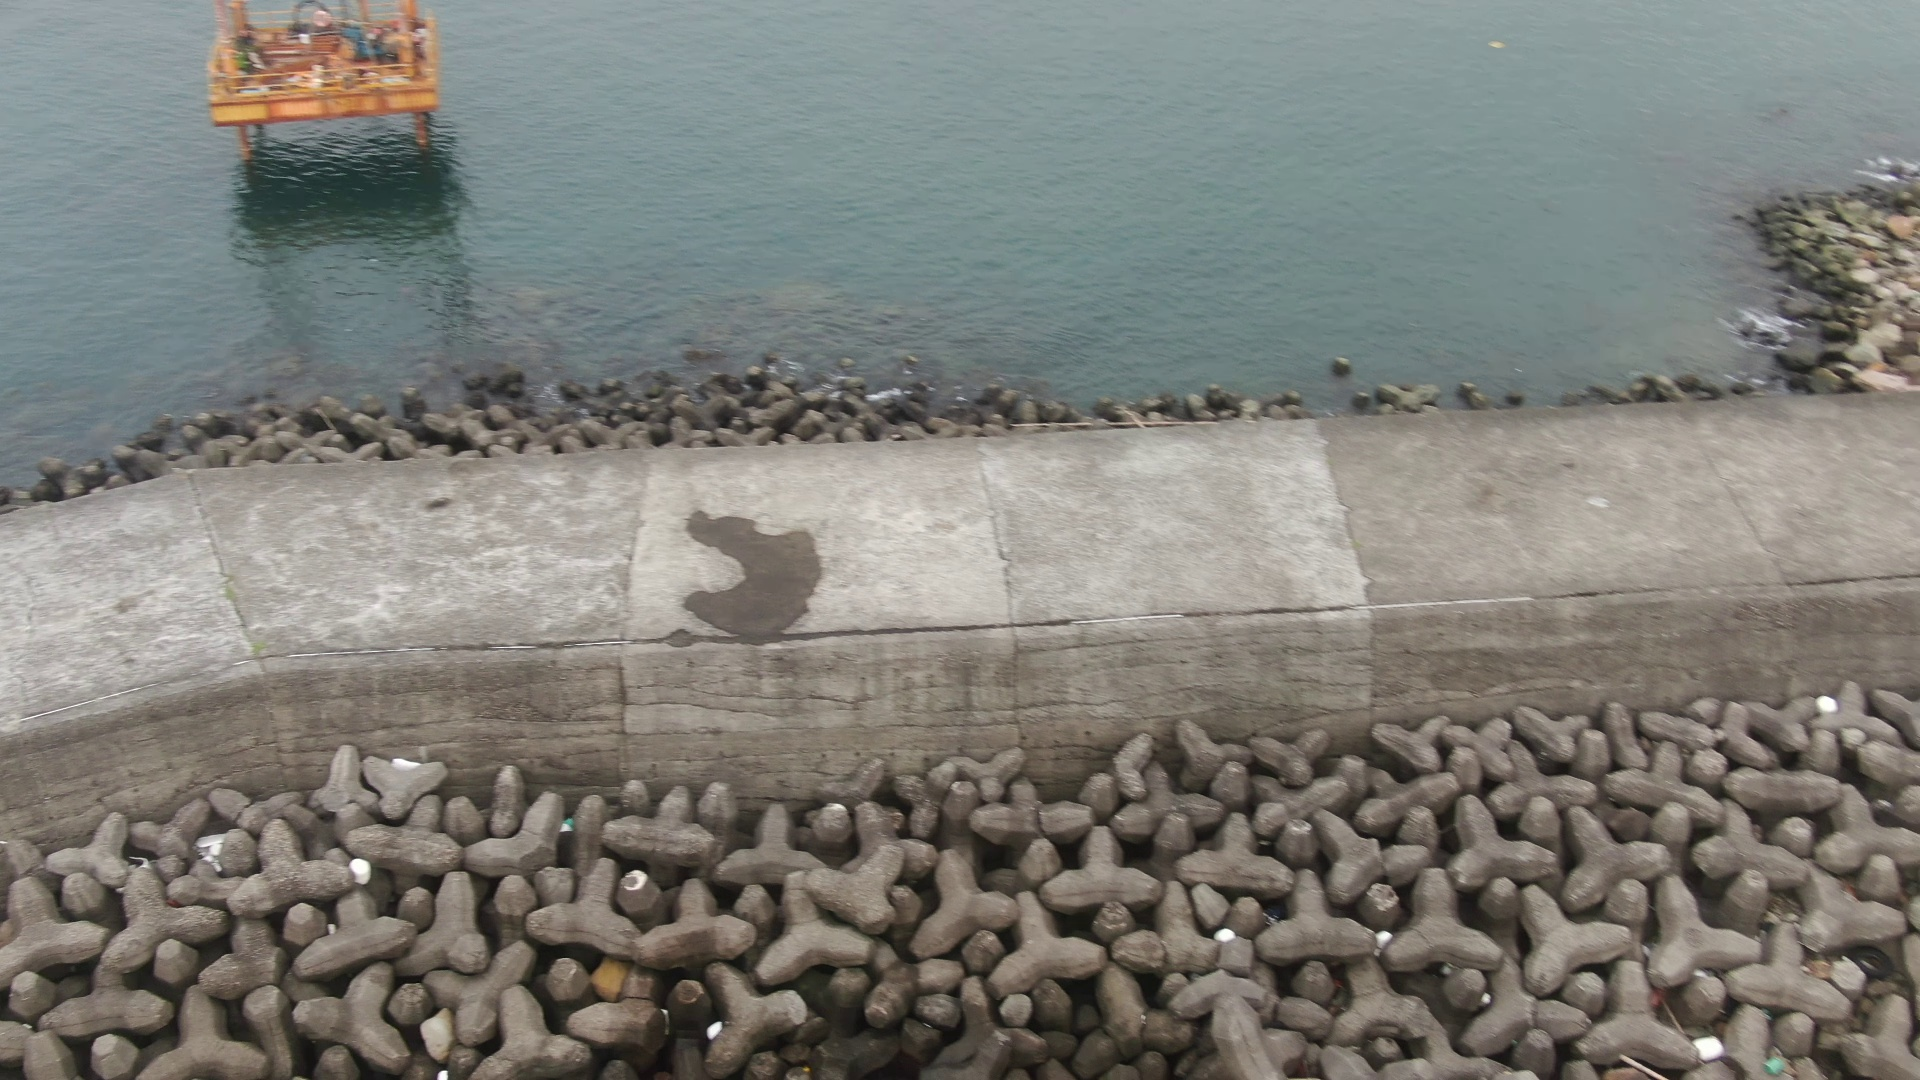garbage: (1683, 1022, 1734, 1079), (1850, 931, 1902, 988), (589, 949, 630, 1006), (1362, 919, 1395, 960), (345, 856, 380, 890), (698, 1017, 731, 1051), (1797, 949, 1832, 982), (550, 804, 582, 840), (1812, 688, 1847, 717), (1211, 916, 1241, 945), (1646, 978, 1671, 1011), (1762, 1058, 1797, 1080)
